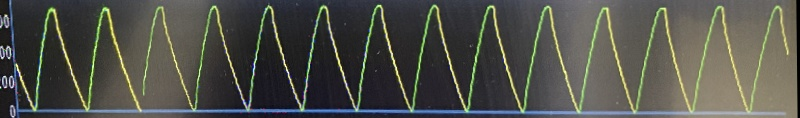normal_volume: (30, 0, 760, 116)
